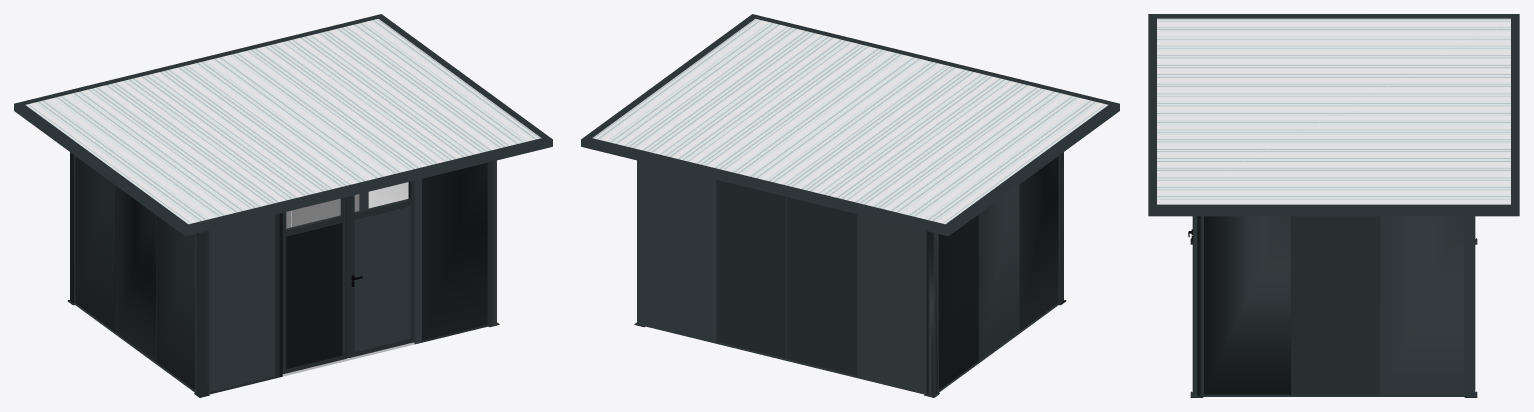
The picture shows the model from 3 angles, left to right: view 1: azimuth 30°, elevation 25°; view 2: azimuth 150°, elevation 25°; view 3: azimuth 270°, elevation 25°; orthographic projection. The views are drawn at different scales.
Visible parts, largest first — view 1: priximbattable_net_abris_de_jardin_640008_abri_de_jardin_ane, folha, folha_2, porta_avec_hublot, trave_2, trave; view 2: priximbattable_net_abris_de_jardin_640008_abri_de_jardin_ane; view 3: priximbattable_net_abris_de_jardin_640008_abri_de_jardin_ane.
Boxes of the visible parts, x1,y1,x2,y2 form: priximbattable_net_abris_de_jardin_640008_abri_de_jardin_ane: [14, 14, 552, 397]; folha: [282, 196, 350, 374]; folha_2: [349, 180, 414, 357]; porta_avec_hublot: [275, 179, 421, 378]; trave_2: [354, 198, 410, 219]; trave: [286, 215, 342, 236]; priximbattable_net_abris_de_jardin_640008_abri_de_jardin_ane: [581, 14, 1119, 397]; priximbattable_net_abris_de_jardin_640008_abri_de_jardin_ane: [1148, 14, 1519, 397].
Size of the model in its own units: 520 by 259 by 420.
Materials: 1 (1 with a texture image).
